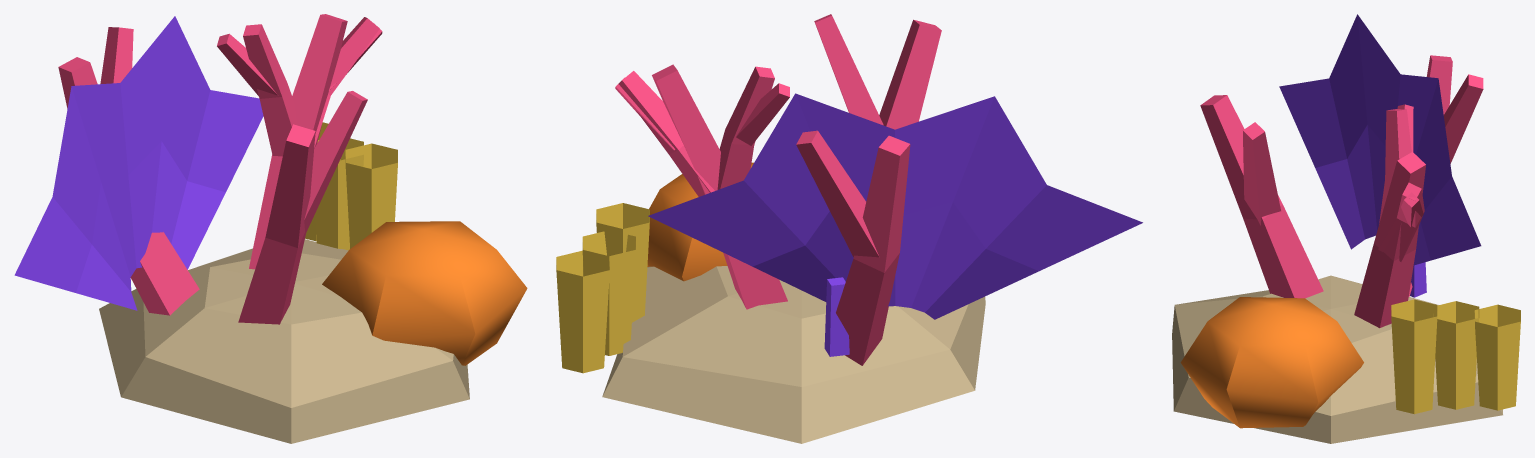
File: coral_cluster.glb
The picture shows the model from 3 angles, left to right: view 1: azimuth 30°, elevation 25°; view 2: azimuth 150°, elevation 25°; view 3: azimuth 270°, elevation 25°; orthographic projection. The views are drawn at different scales.
Parts seen in each view (by area): view 1: coral_cluster; view 2: coral_cluster; view 3: coral_cluster.
Part boxes in pixels (box(x1,y1,x2,y2)): coral_cluster: box(14, 14, 527, 443); coral_cluster: box(556, 14, 1142, 443); coral_cluster: box(1172, 14, 1520, 443).
Size of the model in its own units: 0.5878 by 0.3657 by 0.418.
